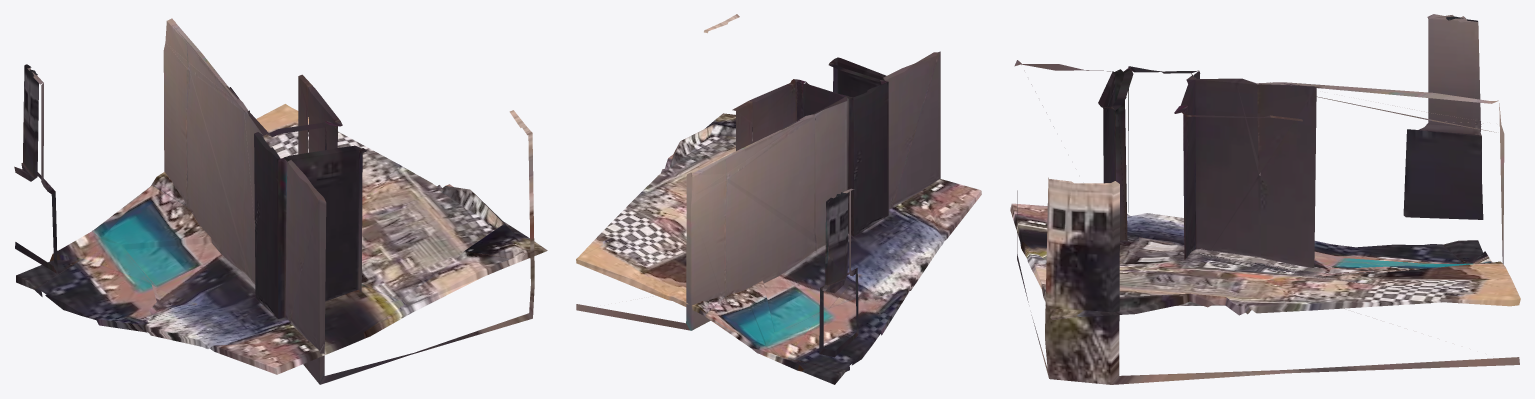
3 views of the same model, side by side, from view 1: azimuth 30°, elevation 25°; view 2: azimuth 150°, elevation 25°; view 3: azimuth 270°, elevation 25° (orthographic). The views are drawn at different scales.
Parts seen in each view (by area): view 1: Mesh_0; view 2: Mesh_0; view 3: Mesh_0.
Part boxes in pixels (x1,y1,x2,y2): Mesh_0: (14,18,547,384); Mesh_0: (576,14,981,384); Mesh_0: (1010,14,1520,384).
Bounding box in the file's own units: 33.33 × 21.25 × 41.19.
1 material, 1 textured.
